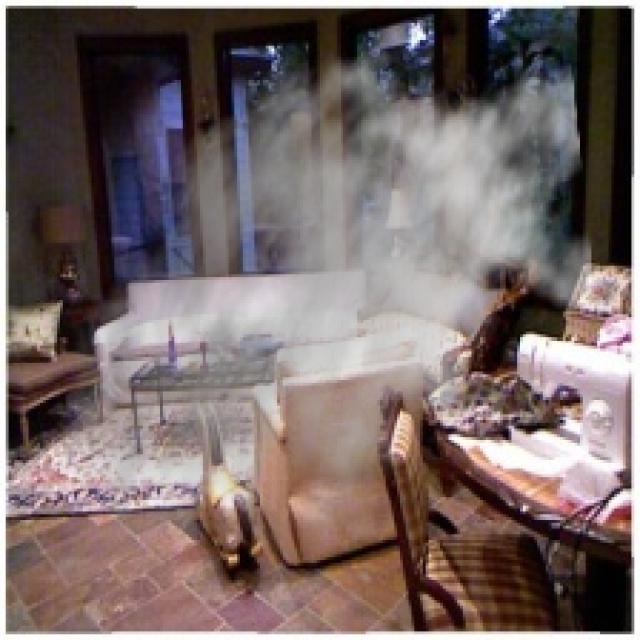smoke: (54, 26, 597, 583)
